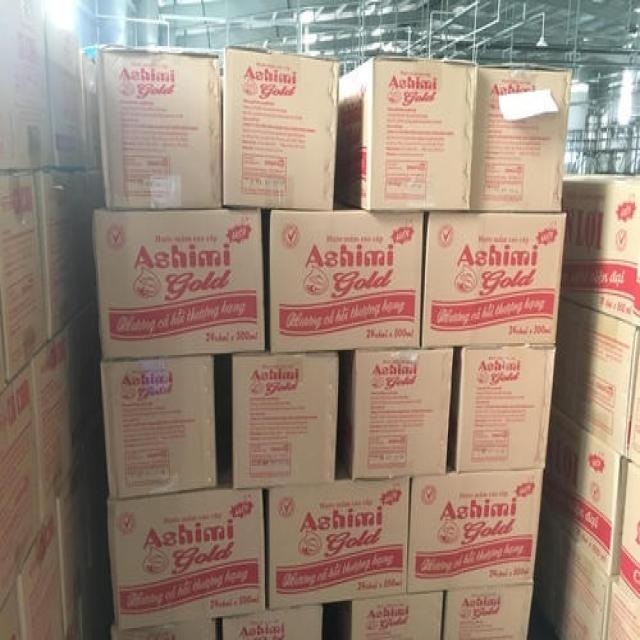box: (91, 208, 266, 360), (270, 198, 424, 353), (335, 56, 479, 212), (108, 488, 266, 630), (93, 44, 223, 210), (221, 43, 342, 210), (421, 212, 566, 350), (268, 476, 411, 609), (407, 466, 544, 594), (100, 355, 219, 498), (471, 60, 573, 212), (338, 348, 454, 481), (543, 403, 628, 575), (233, 352, 338, 488), (552, 299, 640, 459), (448, 345, 557, 471), (561, 172, 640, 328), (55, 435, 114, 640), (534, 507, 612, 640), (0, 172, 49, 382), (0, 364, 41, 613), (0, 0, 55, 169), (29, 326, 74, 531), (33, 172, 77, 340), (15, 502, 65, 640), (65, 299, 104, 469), (46, 20, 90, 169), (337, 592, 444, 640), (444, 584, 534, 640), (74, 174, 105, 314), (223, 602, 323, 640), (617, 461, 640, 611), (111, 618, 218, 640), (83, 51, 102, 169), (607, 575, 640, 640), (627, 348, 640, 469), (0, 582, 22, 640), (0, 292, 9, 396)
